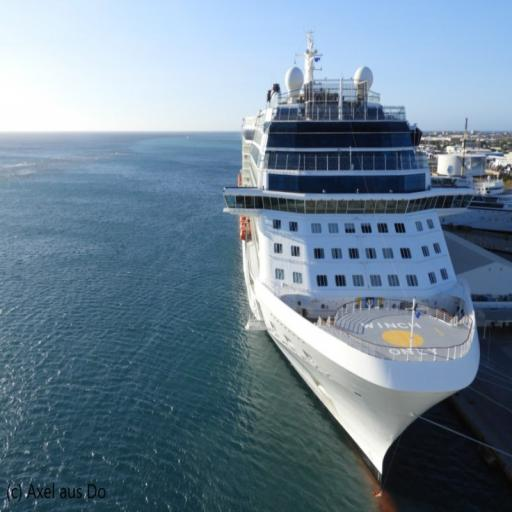cruises: (220, 31, 485, 499)
